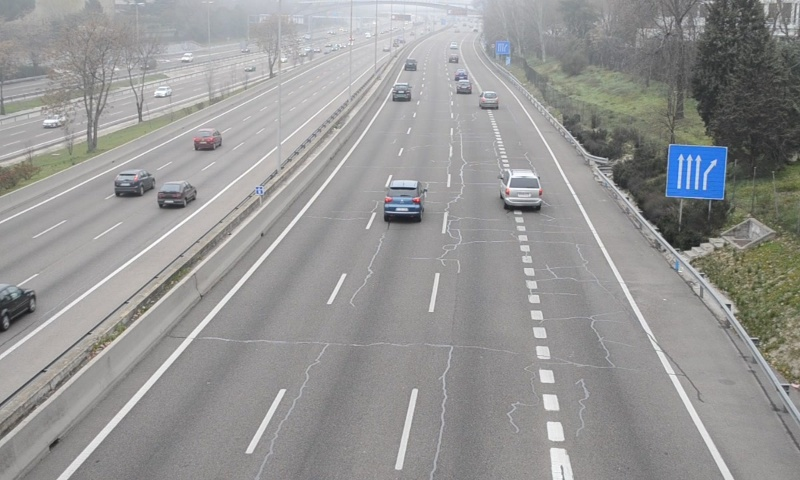car: (383, 180, 422, 218), (502, 170, 542, 207), (390, 82, 412, 103), (479, 90, 498, 109), (455, 78, 473, 94)
